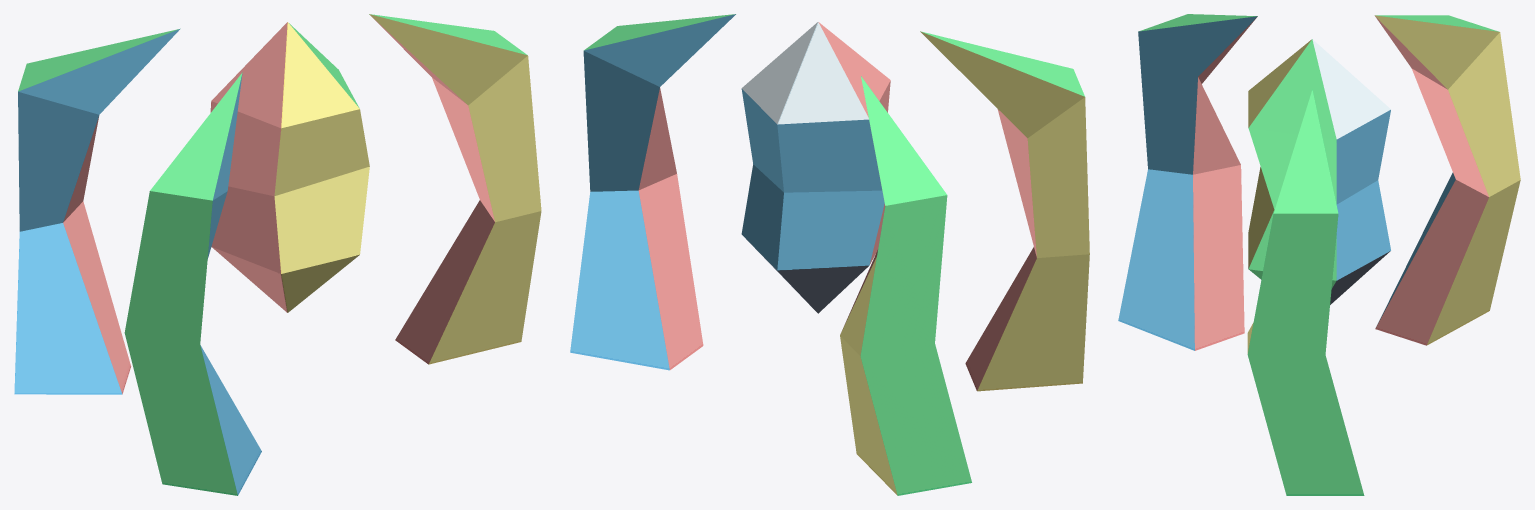
Rendered from lifestone.gltf.
3 views of the same model, side by side, from view 1: azimuth 30°, elevation 25°; view 2: azimuth 150°, elevation 25°; view 3: azimuth 270°, elevation 25° (orthographic). The views are drawn at different scales.
Parts seen in each view (by area): view 1: cuboid (×3), Stone; view 2: cuboid (×3), Stone; view 3: cuboid (×3), Stone.
Boxes of the visible parts, x1,y1,x2,y2 form: cuboid (×3): (14, 14, 541, 495); Stone: (210, 22, 369, 312); cuboid (×3): (570, 14, 1089, 495); Stone: (741, 22, 890, 313); cuboid (×3): (1118, 14, 1520, 495); Stone: (1248, 39, 1390, 304).
Bounding box in the file's own units: 2.36 × 1.88 × 1.94.
2 materials, 2 textured.
